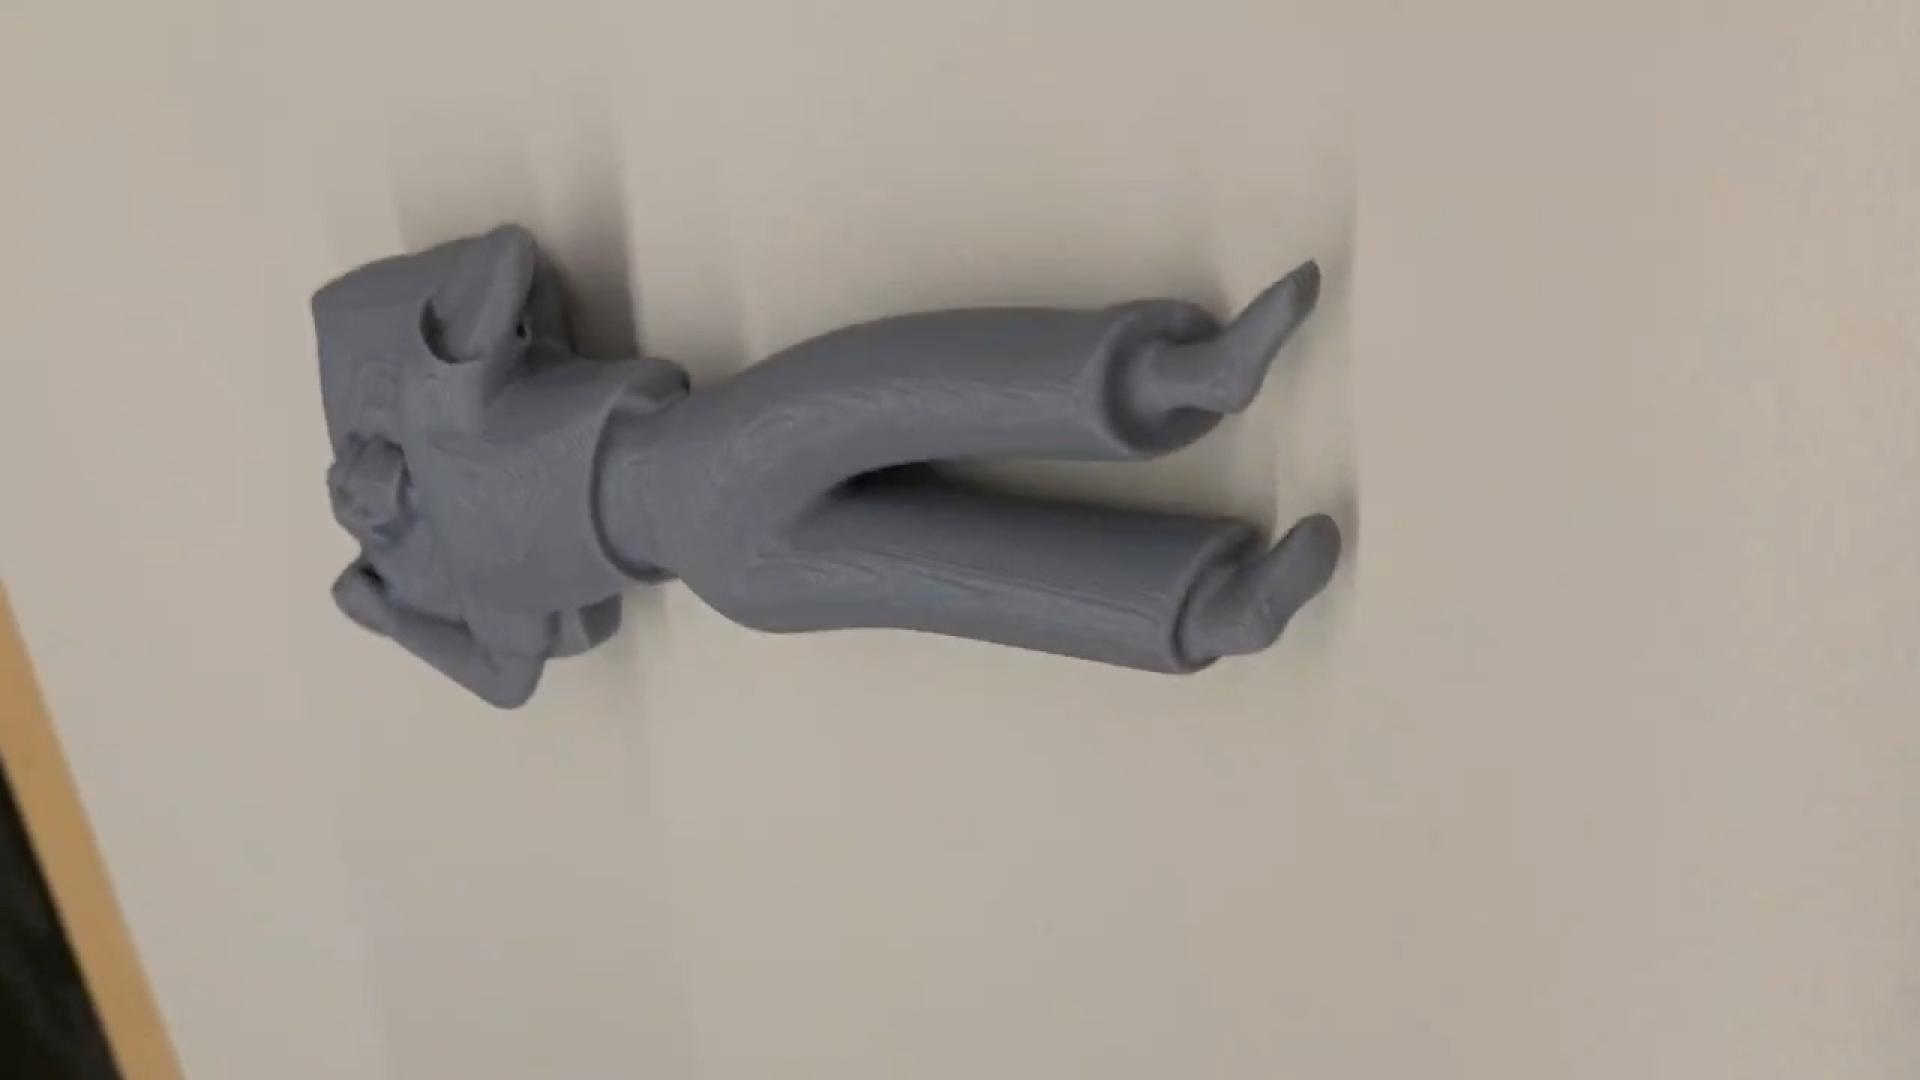Bad-style: (313, 215, 1345, 700)
